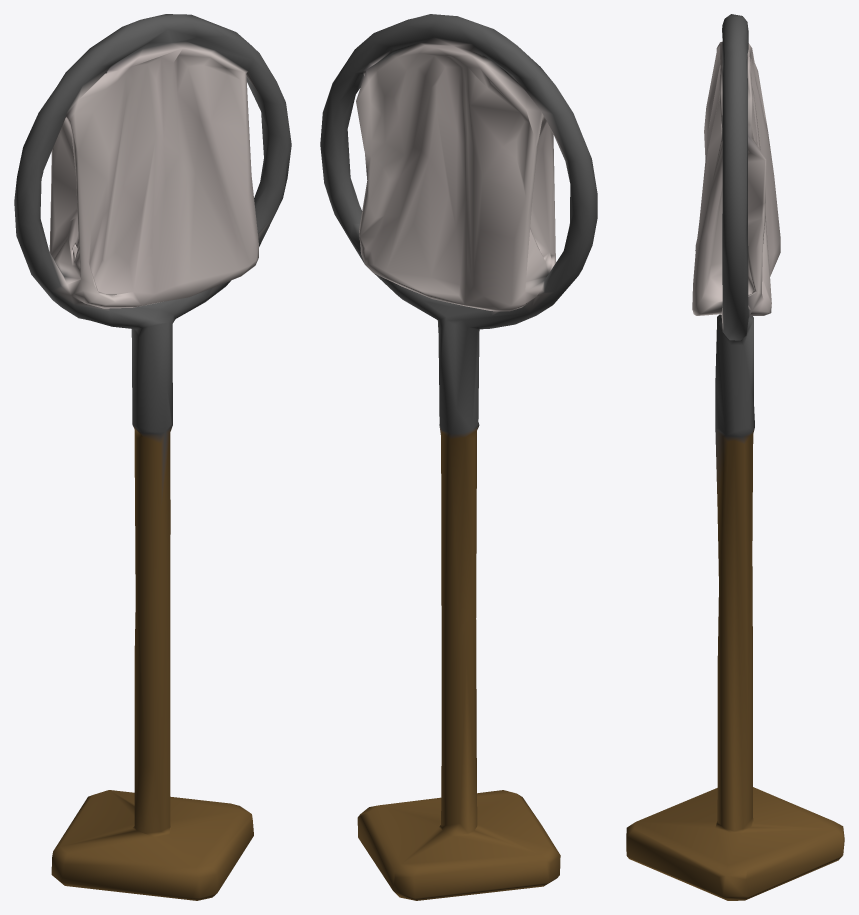
The model's file is gen3d-net-lod1.glb.
3 renders of one model, left to right at view 1: azimuth 30°, elevation 25°; view 2: azimuth 150°, elevation 25°; view 3: azimuth 270°, elevation 25°, orthographic.
Parts seen in each view (by area): view 1: part_0; view 2: part_0; view 3: part_0.
Boxes of the visible parts, x1,y1,x2,y2 form: part_0: [14, 14, 291, 900]; part_0: [320, 14, 597, 900]; part_0: [626, 14, 844, 900].
Bounding box in the file's own units: 0.3392 × 0.9999 × 0.238.
